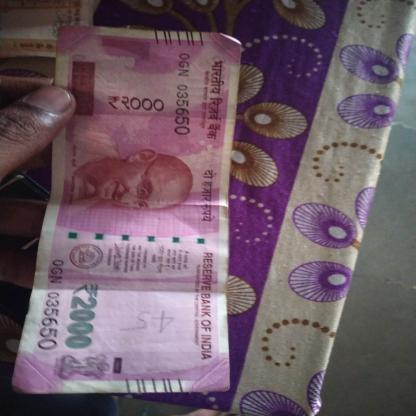New2000Front: (37, 34, 227, 390)
